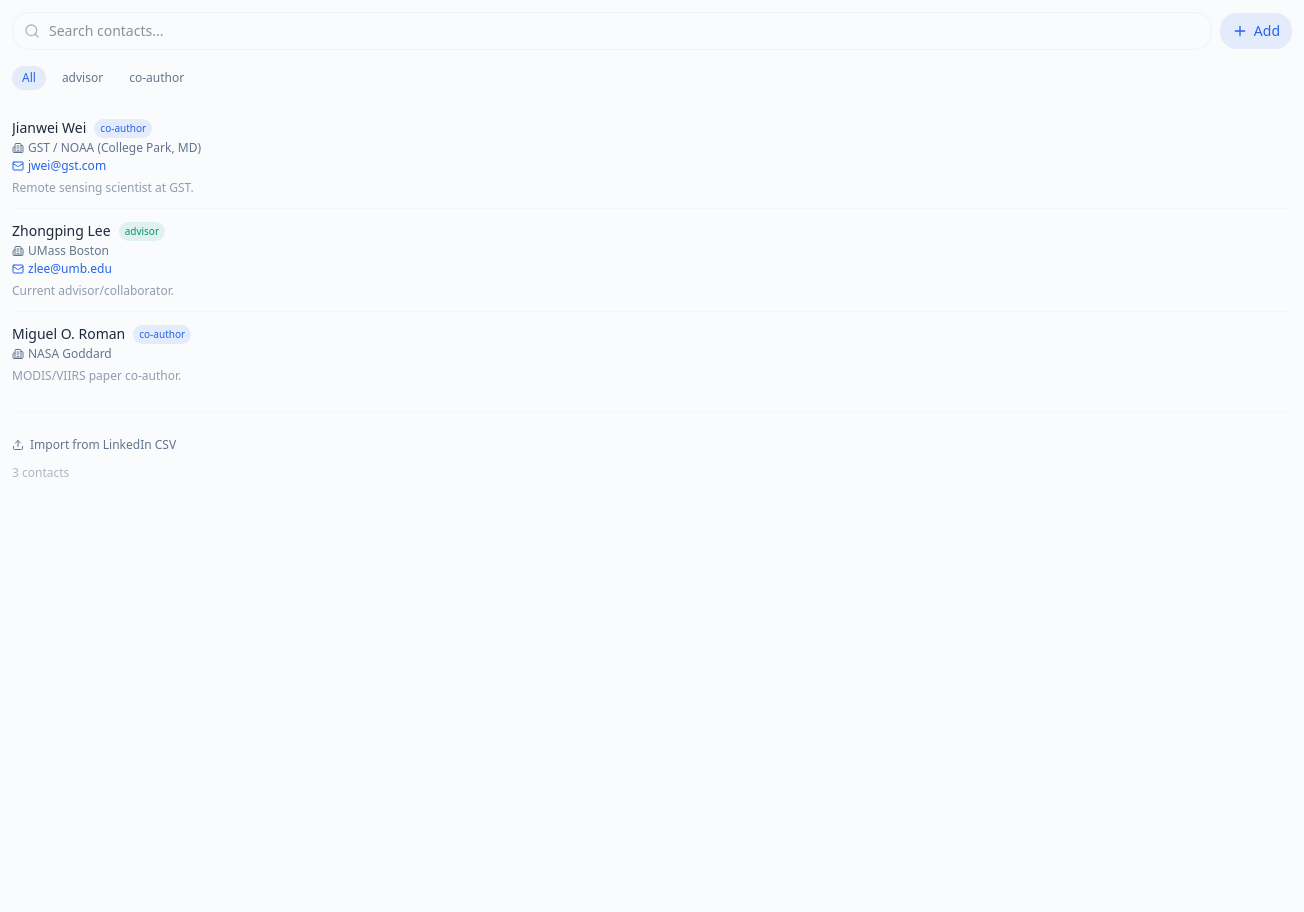
Test: Add contact form › clicking Add shows form
Click the button with test id "add-contact-button": (1256,31) 1220,13 -> 1292,49
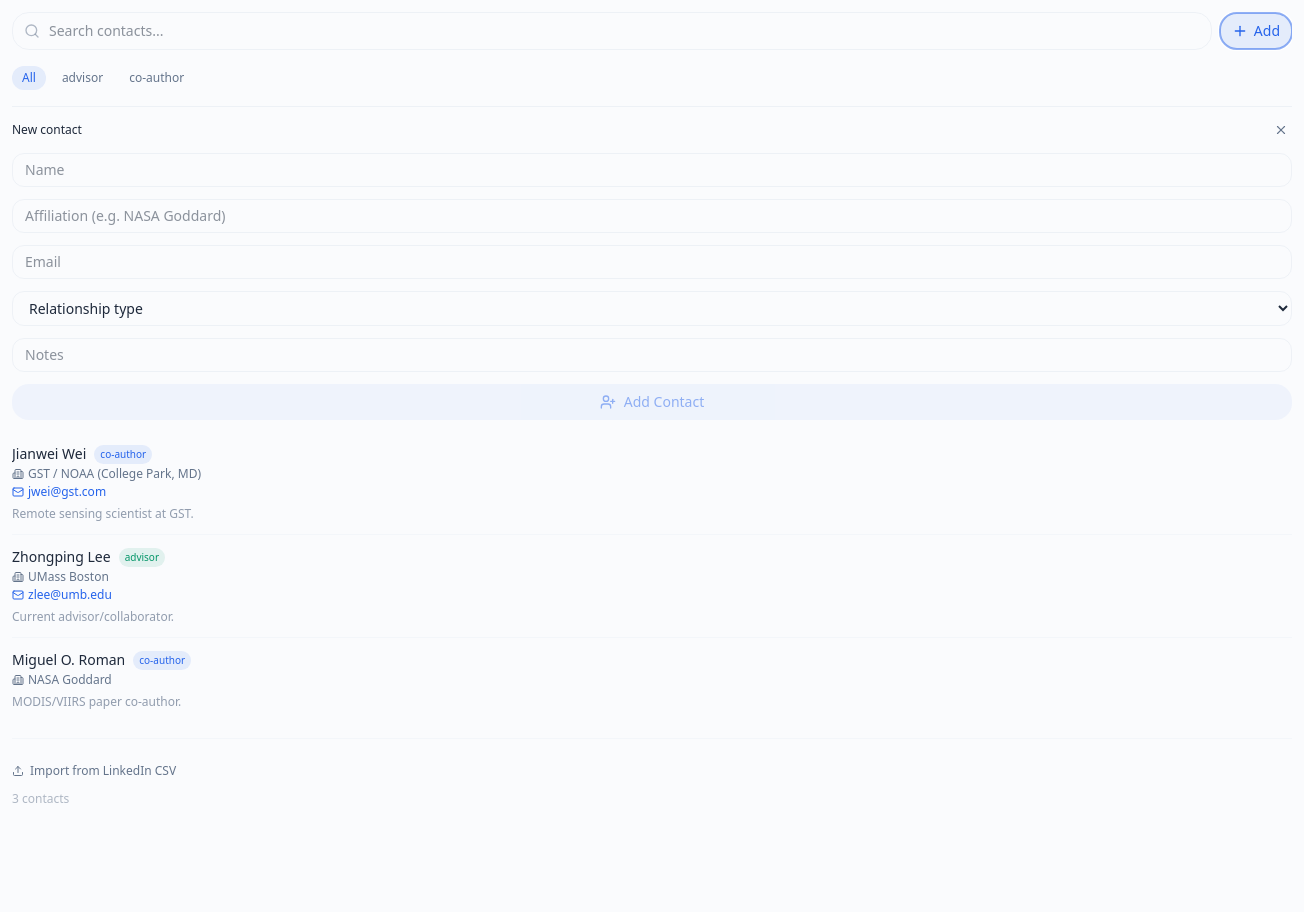
Result: the form with test id "add-contact-form" is shown at 12,106 -> 1292,432
Result: the field with test id "add-contact-name" is shown at 12,153 -> 1292,187
